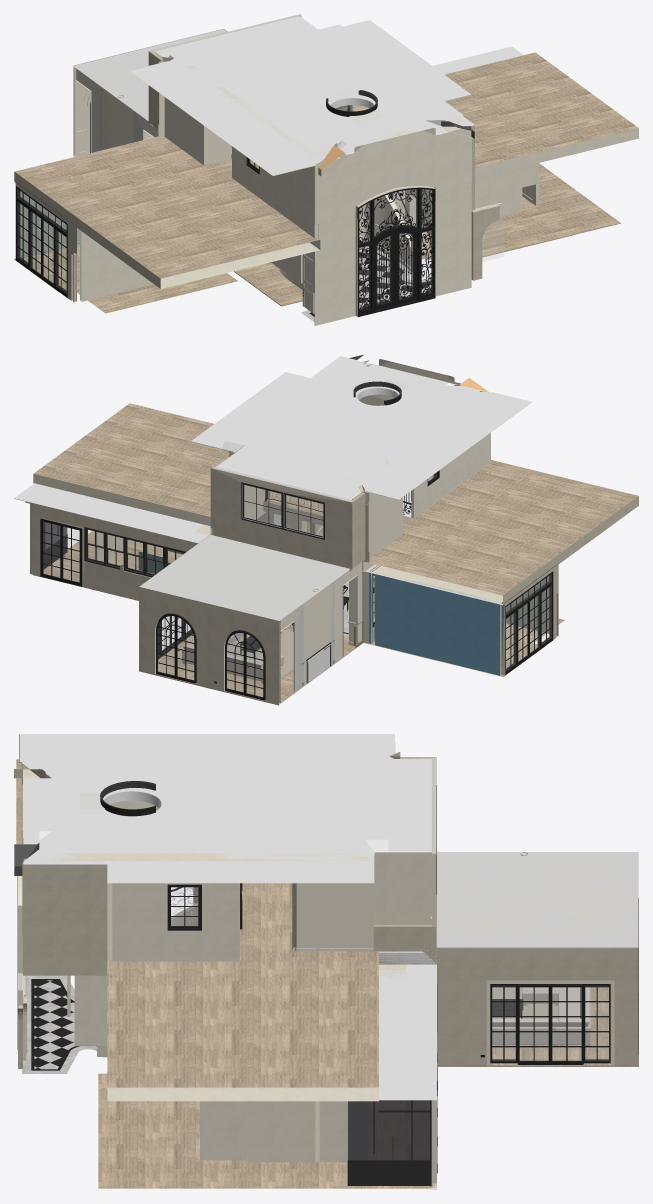
File: family-room-67b47ac9377d.glb
3 renders of one model, top to bottom at view 1: azimuth 30°, elevation 25°; view 2: azimuth 150°, elevation 25°; view 3: azimuth 270°, elevation 25°, orthographic. The views are drawn at different scales.
Parts seen in each view (by area): view 1: family-room-look-2575515a05775d9e, family-room-look-e8793759323e04f0, family-room-look-9d91b47435c6fb33, family-room-look-34525a54e63b733b, family-room-look-3b0077416469e01b, family-room-look-d5a4a1b5d3594c04, family-room-look-5f56640b372ec5ce, family-room-look-746250f96522f643, family-room-4a969f5cc1ae3dfe, family-room-look-bce662e26d5a5947, family-room-look-d999b7e09afcf2f4, family-room-9d80b152e3f2ea10 (+30 smaller); view 2: family-room-look-2575515a05775d9e, family-room-look-e8793759323e04f0, family-room-look-9d91b47435c6fb33, family-room-4a969f5cc1ae3dfe, family-room-look-b19b106fc304963c, family-room-look-245f595ae2832e16, family-room-969b861f9850351e, family-room-look-bfb9fa537cd11d1d, family-room-look-9a0e9ee9b2a451d7, family-room-9d80b152e3f2ea10, family-room-look-5f56640b372ec5ce, family-room-50d54560d247b537 (+27 smaller); view 3: family-room-look-2575515a05775d9e, family-room-look-e8793759323e04f0, family-room-look-9d91b47435c6fb33, family-room-4a969f5cc1ae3dfe, family-room-look-3b0077416469e01b, family-room-e706aa16b4547c37, family-room-look-62353aa10fc57f23, family-room-50d54560d247b537, family-room-look-c51ecd664a3b22a3, family-room-look-9a0e9ee9b2a451d7, family-room-look-5f56640b372ec5ce, family-room-look-69af8f587252f9fa (+28 smaller).
Boxes of the visible parts, x1=… form: family-room-look-2575515a05775d9e: x1=14, y1=52, x2=638, y2=288; family-room-look-e8793759323e04f0: x1=180, y1=23, x2=463, y2=157; family-room-look-9d91b47435c6fb33: x1=130, y1=16, x2=474, y2=175; family-room-look-34525a54e63b733b: x1=314, y1=126, x2=471, y2=244; family-room-look-3b0077416469e01b: x1=14, y1=163, x2=620, y2=306; family-room-look-d5a4a1b5d3594c04: x1=314, y1=208, x2=471, y2=325; family-room-look-5f56640b372ec5ce: x1=254, y1=81, x2=404, y2=139; family-room-look-746250f96522f643: x1=232, y1=146, x2=317, y2=238; family-room-4a969f5cc1ae3dfe: x1=73, y1=29, x2=226, y2=120; family-room-look-bce662e26d5a5947: x1=357, y1=187, x2=435, y2=316; family-room-look-d999b7e09afcf2f4: x1=80, y1=230, x2=153, y2=301; family-room-9d80b152e3f2ea10: x1=76, y1=69, x2=158, y2=152; family-room-look-2575515a05775d9e: x1=33, y1=403, x2=638, y2=604; family-room-look-e8793759323e04f0: x1=222, y1=356, x2=481, y2=481; family-room-look-9d91b47435c6fb33: x1=191, y1=362, x2=532, y2=500; family-room-4a969f5cc1ae3dfe: x1=139, y1=534, x2=349, y2=621; family-room-look-b19b106fc304963c: x1=375, y1=573, x2=501, y2=675; family-room-look-245f595ae2832e16: x1=210, y1=467, x2=352, y2=568; family-room-969b861f9850351e: x1=139, y1=587, x2=280, y2=704; family-room-look-bfb9fa537cd11d1d: x1=30, y1=502, x2=197, y2=600; family-room-look-9a0e9ee9b2a451d7: x1=14, y1=483, x2=208, y2=543; family-room-9d80b152e3f2ea10: x1=280, y1=562, x2=362, y2=690; family-room-look-5f56640b372ec5ce: x1=324, y1=377, x2=464, y2=430; family-room-50d54560d247b537: x1=139, y1=534, x2=343, y2=620; family-room-look-2575515a05775d9e: x1=16, y1=759, x2=378, y2=1101; family-room-look-e8793759323e04f0: x1=39, y1=756, x2=388, y2=861; family-room-look-9d91b47435c6fb33: x1=19, y1=734, x2=431, y2=883; family-room-4a969f5cc1ae3dfe: x1=436, y1=852, x2=638, y2=948; family-room-look-3b0077416469e01b: x1=98, y1=920, x2=436, y2=1188; family-room-e706aa16b4547c37: x1=437, y1=948, x2=633, y2=1065; family-room-look-62353aa10fc57f23: x1=23, y1=865, x2=112, y2=975; family-room-50d54560d247b537: x1=436, y1=852, x2=638, y2=948; family-room-look-c51ecd664a3b22a3: x1=112, y1=883, x2=239, y2=961; family-room-look-9a0e9ee9b2a451d7: x1=379, y1=964, x2=436, y2=1100; family-room-look-5f56640b372ec5ce: x1=83, y1=756, x2=196, y2=825; family-room-look-69af8f587252f9fa: x1=292, y1=883, x2=373, y2=947.
Bounding box in the file's own units: 21.02 × 7.02 × 16.88.
63 materials, 12 textured.
